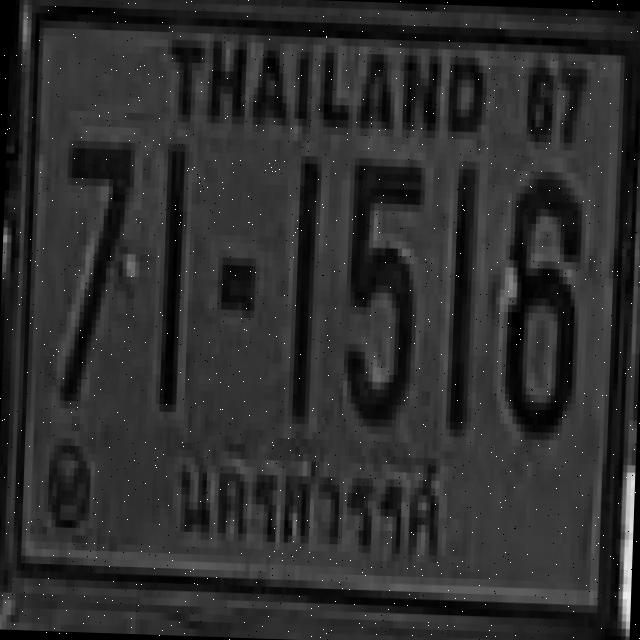1: (445, 160, 475, 430), (155, 139, 185, 408), (288, 152, 318, 420), (285, 159, 315, 413)
5: (342, 154, 422, 424)
6: (499, 162, 579, 432)
7: (55, 132, 131, 402)
NakhonSawan: (158, 432, 460, 594)
